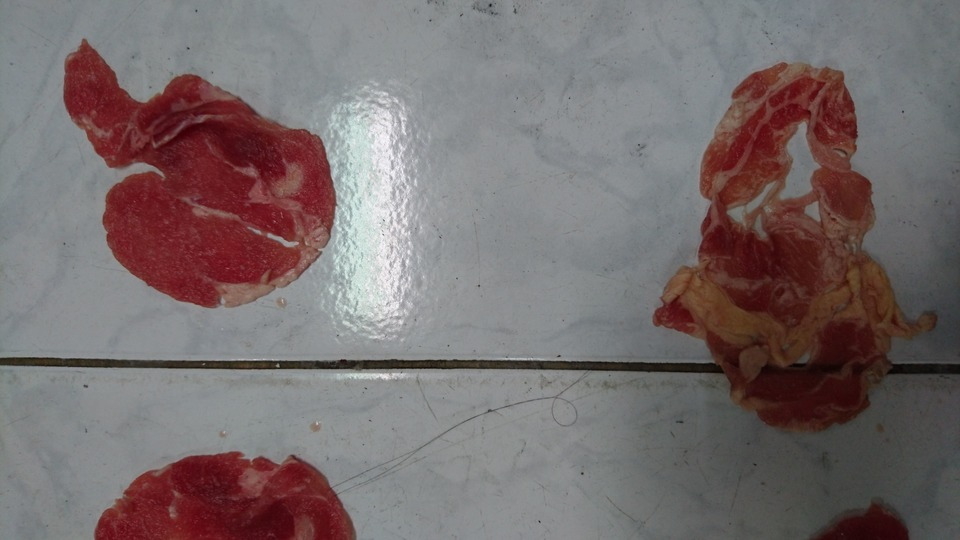restructured meat: (656, 55, 899, 436), (64, 50, 347, 326), (96, 446, 364, 540)
